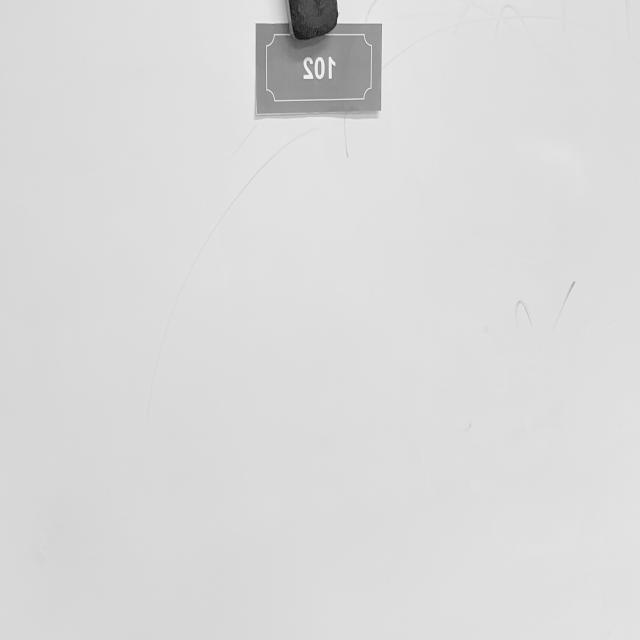Card: (242, 0, 398, 134)
